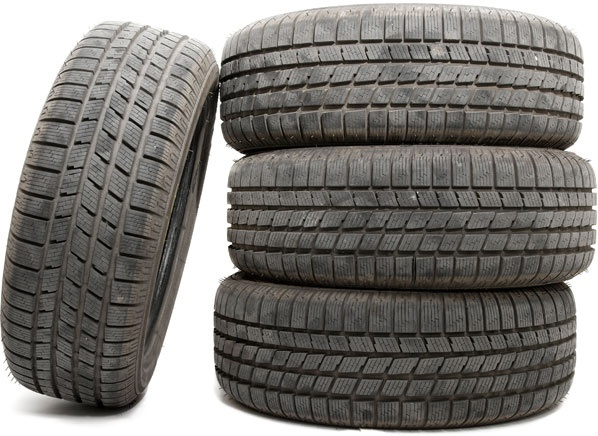tire: (1, 22, 220, 409), (215, 280, 577, 429), (219, 4, 584, 148), (227, 148, 595, 288)
